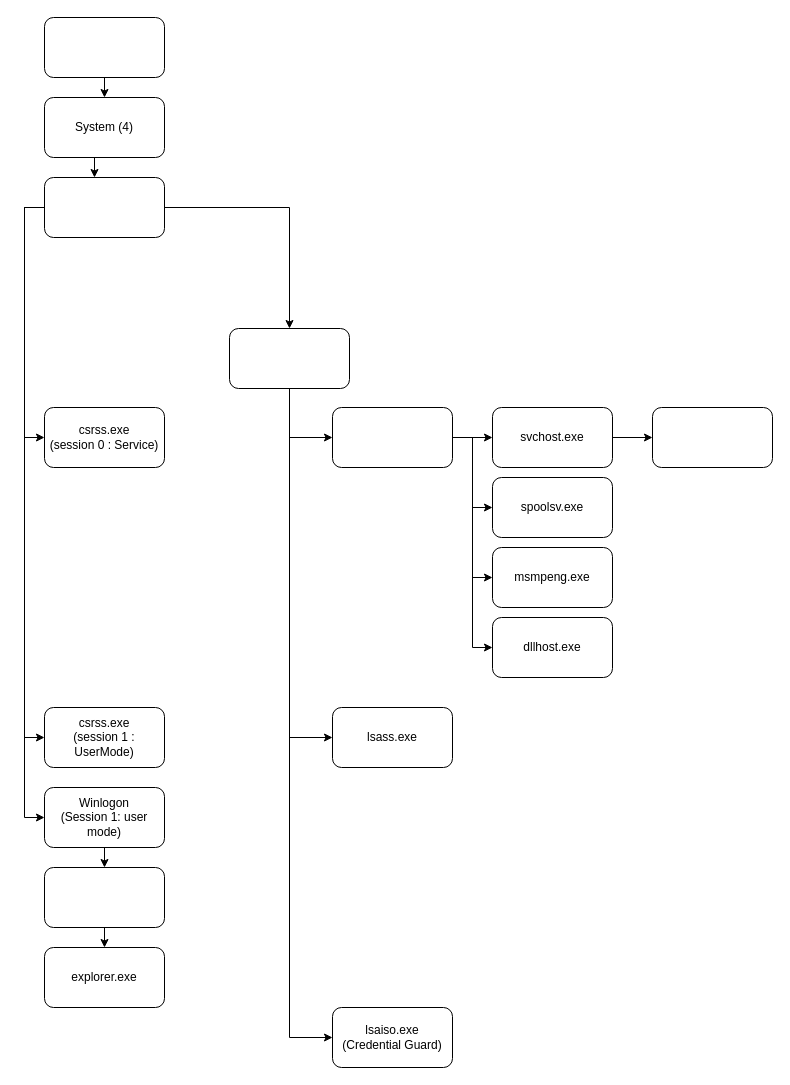
This 790x1085 diagram has some shape labels left out. The centre of each missing label's shape, as x and y in pixels:
Boot: pixel 104 47
Calls Services (with -k paramater): pixel 712 437
Services.exe: pixel 392 437
SMSS.EXE: pixel 104 207
userinit.exe: pixel 104 897
WinInit.exe: pixel 289 358
